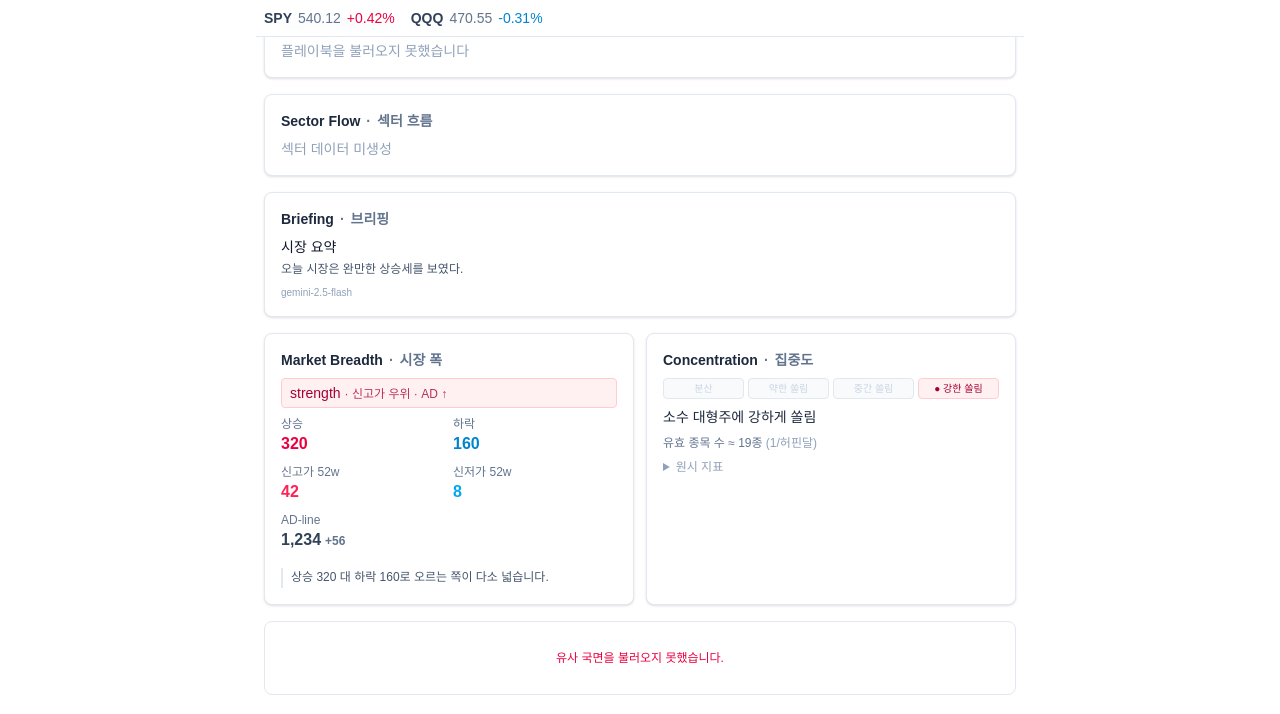
Test: MarketPulseV2Page › 라우팅: Concentration 카드 → drawer 타이틀 "Concentration · 집중도"
(page scrolled)
What coordinates should you click on to do the following:
click the text "Concentration"
I would click on:
 (710, 360)
Its box is [663,352,758,368].
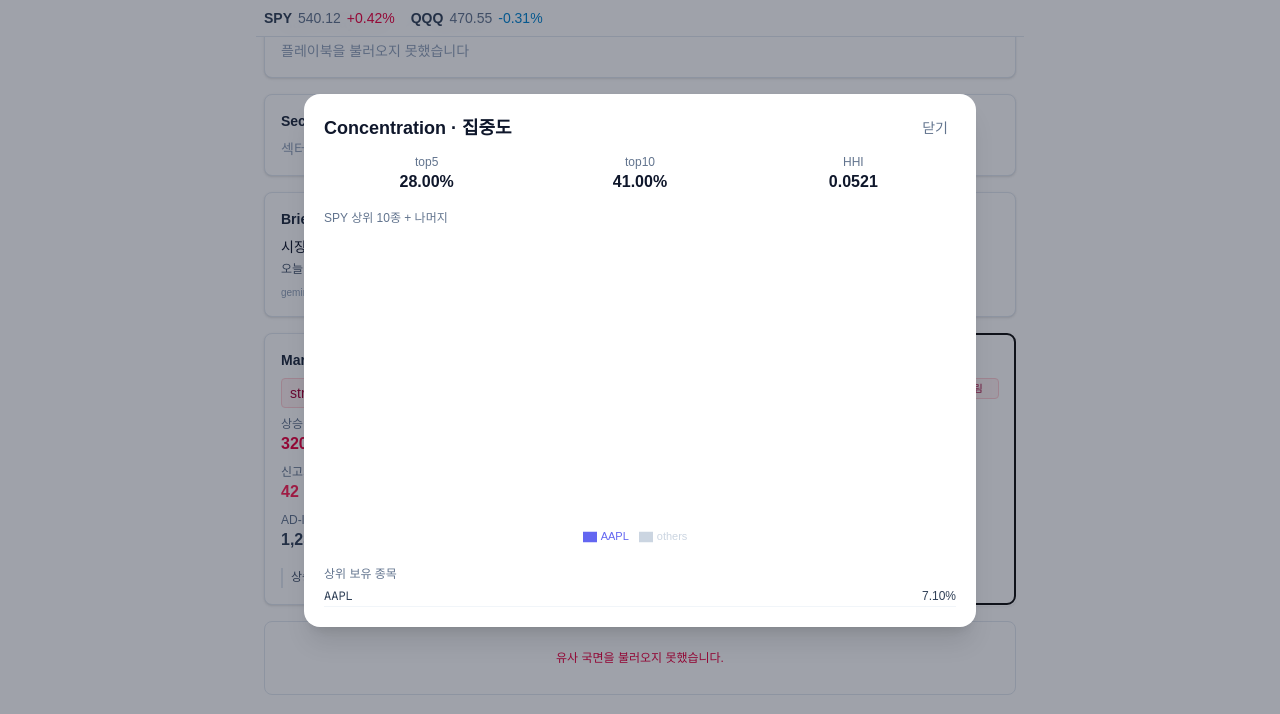
Now the heading "Concentration · 집중도" is shown, box [324,114,512,142]
